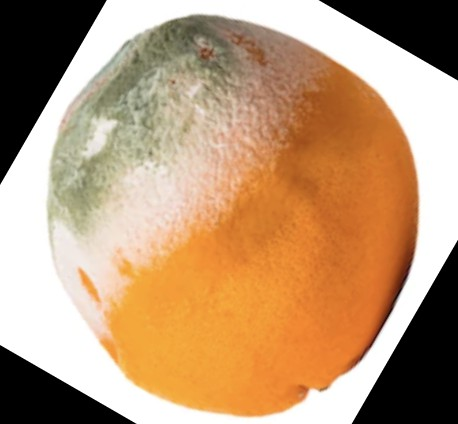rotten_orange: (49, 15, 419, 417)
